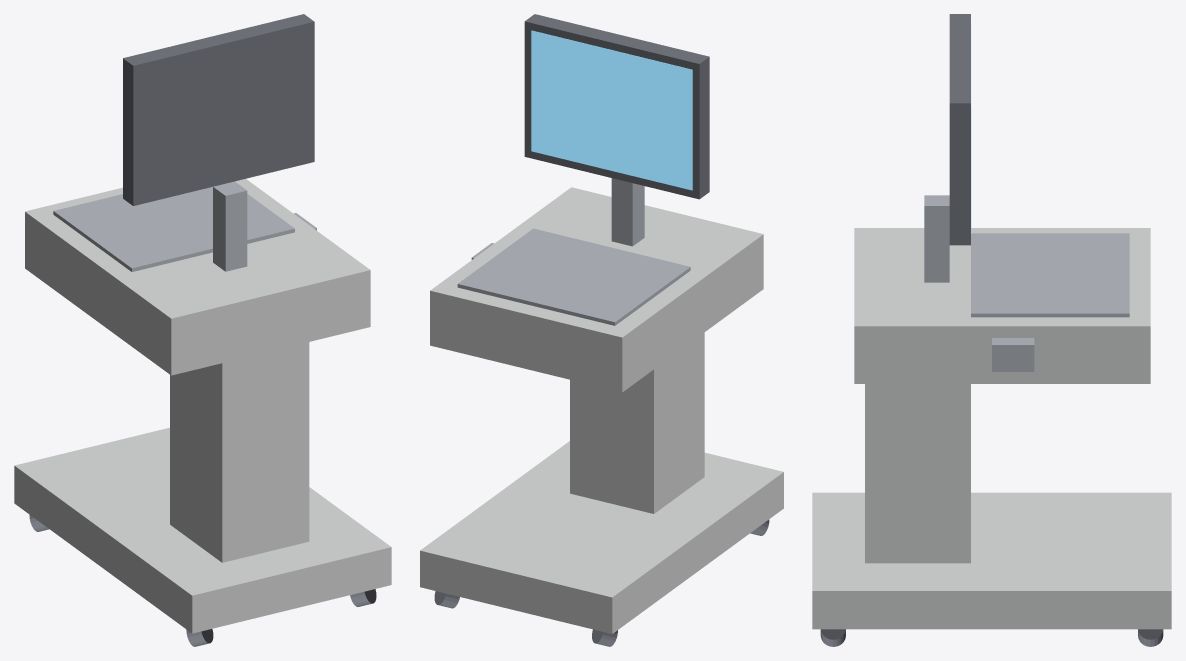
Rendered from apparat-uzi.glb.
The picture shows the model from 3 angles, left to right: view 1: azimuth 30°, elevation 25°; view 2: azimuth 150°, elevation 25°; view 3: azimuth 270°, elevation 25°; orthographic projection. The views are drawn at different scales.
Bounding box in the file's own units: 0.59 × 1.42 × 0.85.
